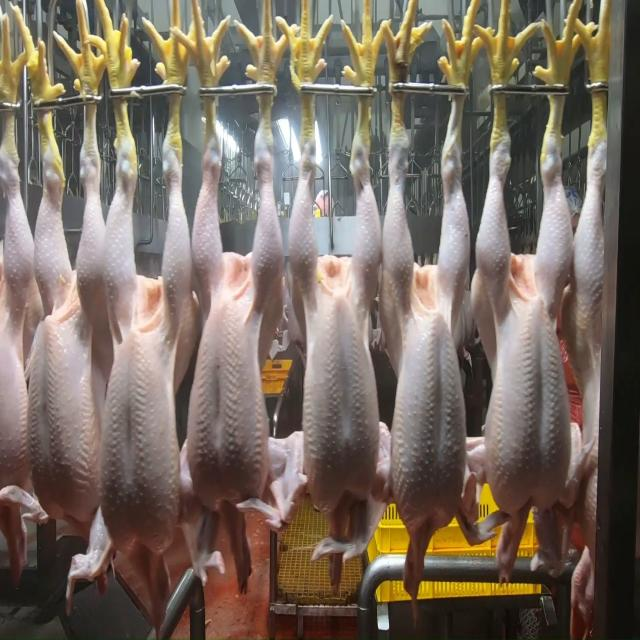chicken: (96, 135, 195, 559), (183, 127, 289, 522), (374, 136, 474, 546), (289, 142, 385, 535), (484, 134, 577, 536), (35, 108, 112, 544), (0, 119, 33, 525)
